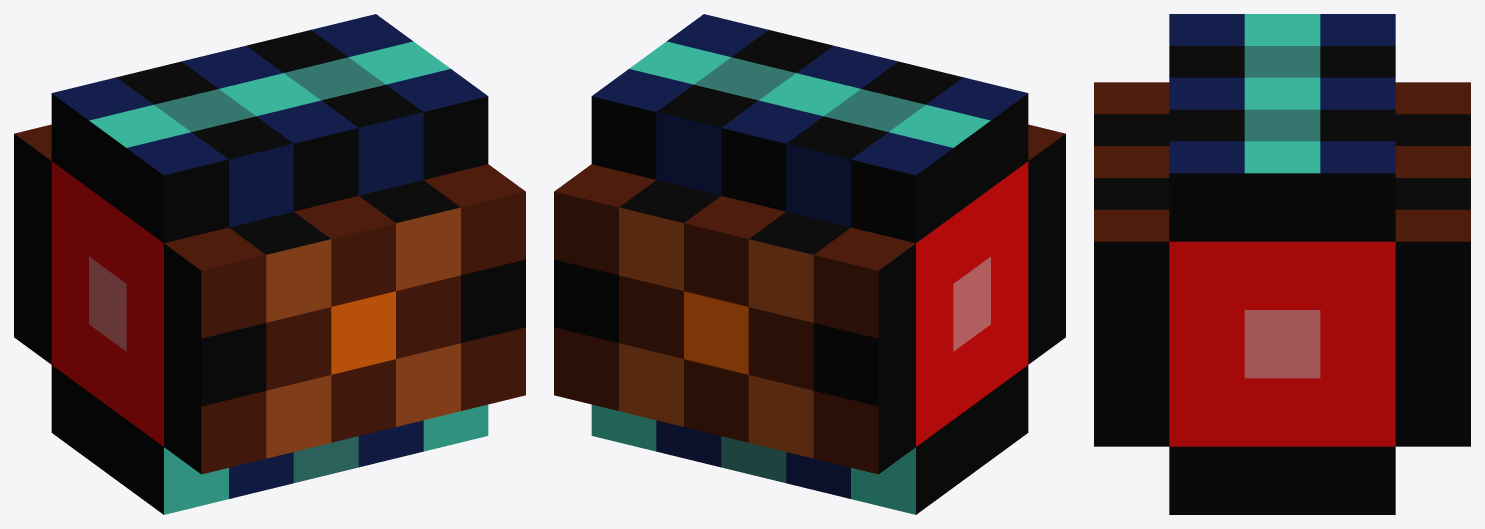
Rendered from SnakeCellStraight.gltf.
3 views of the same model, side by side, from view 1: azimuth 30°, elevation 25°; view 2: azimuth 150°, elevation 25°; view 3: azimuth 270°, elevation 25° (orthographic).
Visible parts, largest first — view 1: SnakeCellStraight; view 2: SnakeCellStraight; view 3: SnakeCellStraight.
Part boxes in pixels (bbox=[...]): SnakeCellStraight: bbox=[14, 14, 525, 514]; SnakeCellStraight: bbox=[554, 14, 1065, 514]; SnakeCellStraight: bbox=[1094, 14, 1470, 514].
Bounding box in the file's own units: 0.9 × 0.9 × 0.9.
